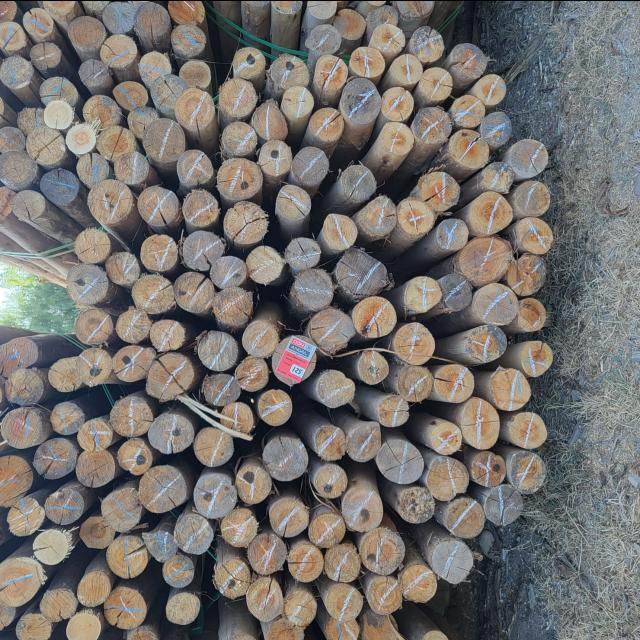package: (67, 23, 554, 618), (0, 324, 181, 640), (0, 0, 215, 242)
